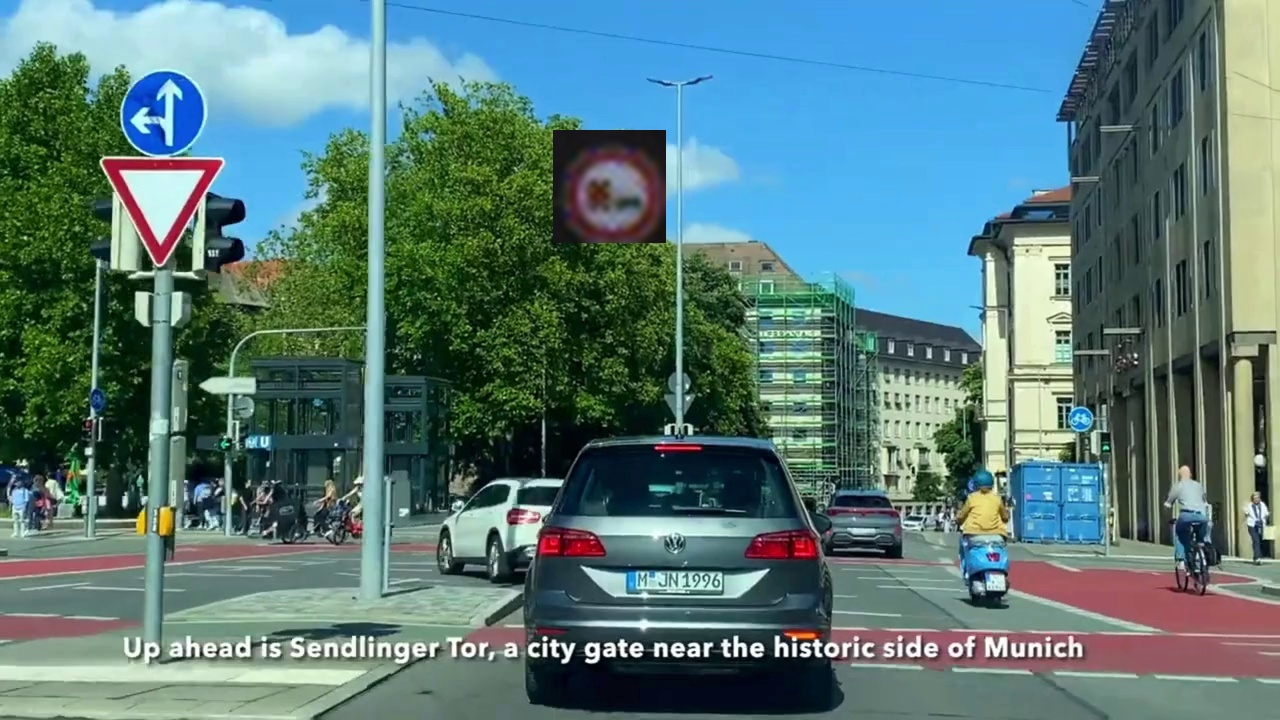No pass >3.5t: (553, 130, 666, 243)
